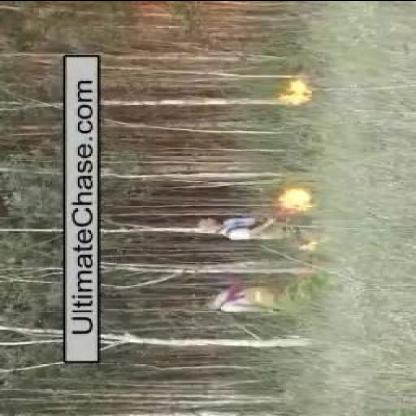foggia-v2-map80-epoch100 - v1 4323: (280, 79, 312, 104), (282, 187, 314, 209)
